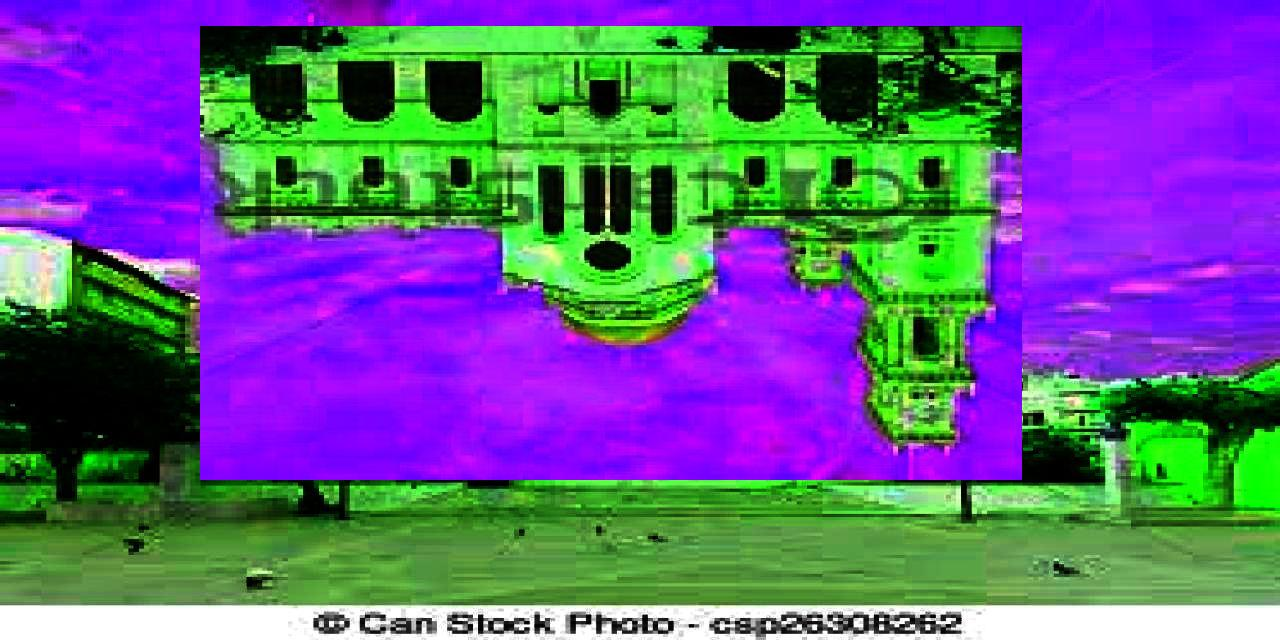Agios Minas: (201, 27, 1023, 481)
